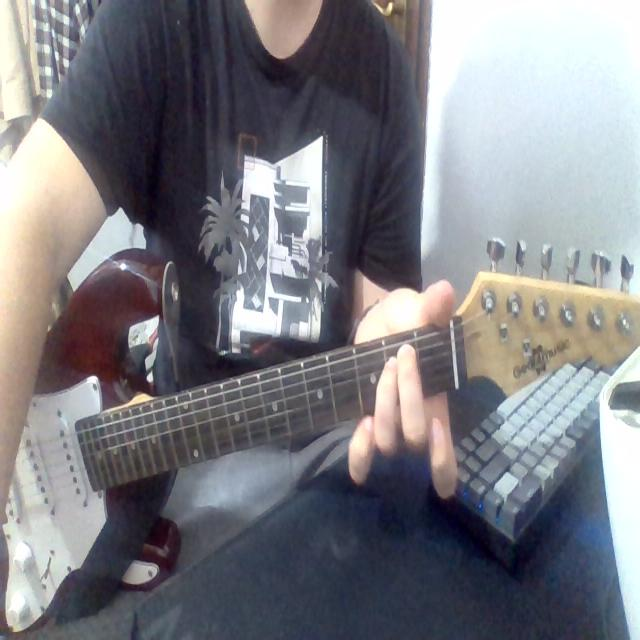Em: (370, 333, 448, 427)
